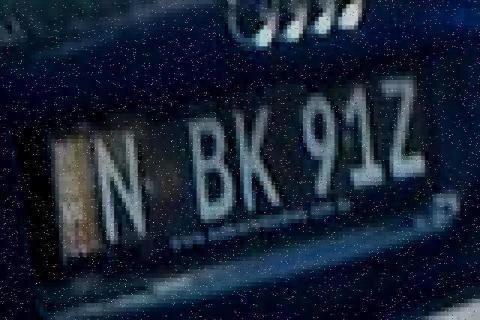LicensePlate: (40, 46, 444, 294)
